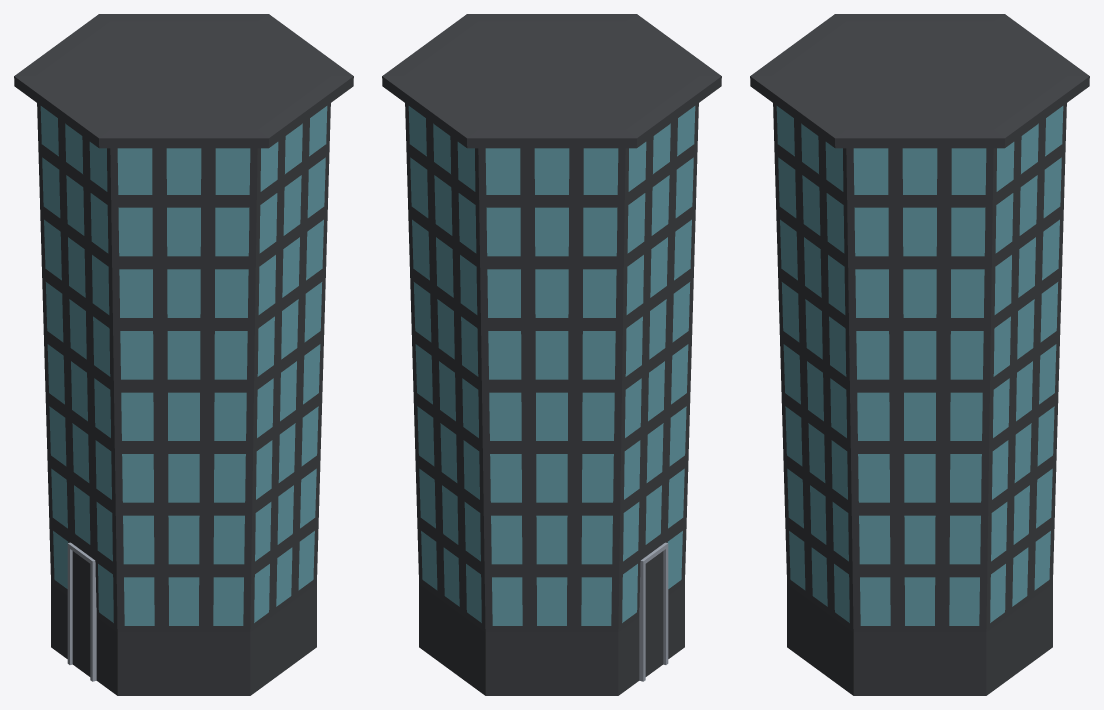
The model's file is Building_House_08.fbx.
The picture shows the model from 3 angles, left to right: view 1: azimuth 30°, elevation 25°; view 2: azimuth 150°, elevation 25°; view 3: azimuth 270°, elevation 25°; orthographic projection.
Parts seen in each view (by area): view 1: Building_House_08; view 2: Building_House_08; view 3: Building_House_08.
Part boxes in pixels (x1,y1,x2,y2): Building_House_08: [14, 14, 353, 695]; Building_House_08: [382, 14, 721, 695]; Building_House_08: [750, 14, 1089, 695].
Bounding box in the file's own units: 1188 × 2547 × 1372.
